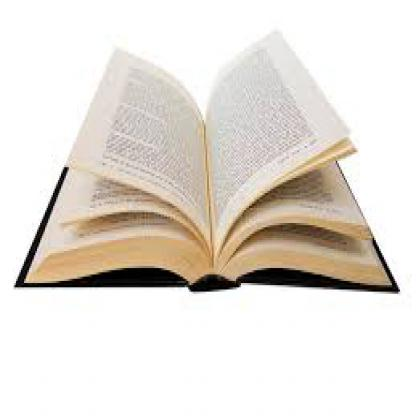paper: (12, 26, 398, 289), (204, 26, 350, 268), (61, 45, 210, 279)
